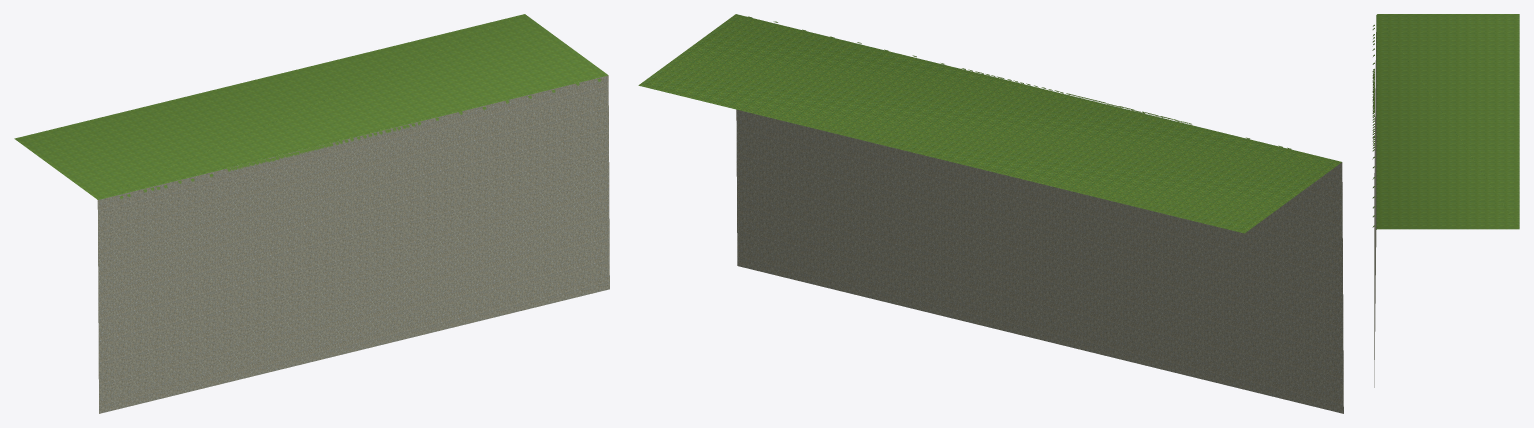
The model's file is Groundslim.FBX.
The picture shows the model from 3 angles, left to right: view 1: azimuth 30°, elevation 25°; view 2: azimuth 150°, elevation 25°; view 3: azimuth 270°, elevation 25°; orthographic projection. The views are drawn at different scales.
Parts seen in each view (by area): view 1: Box001; view 2: Box001; view 3: Box001.
Part boxes in pixels (x1,y1,x2,y2): Box001: (14, 14, 609, 413); Box001: (638, 14, 1343, 413); Box001: (1374, 14, 1519, 387).
Size of the model in its own units: 7009 by 2026 by 2801.
Materials: 3 (3 with a texture image).
